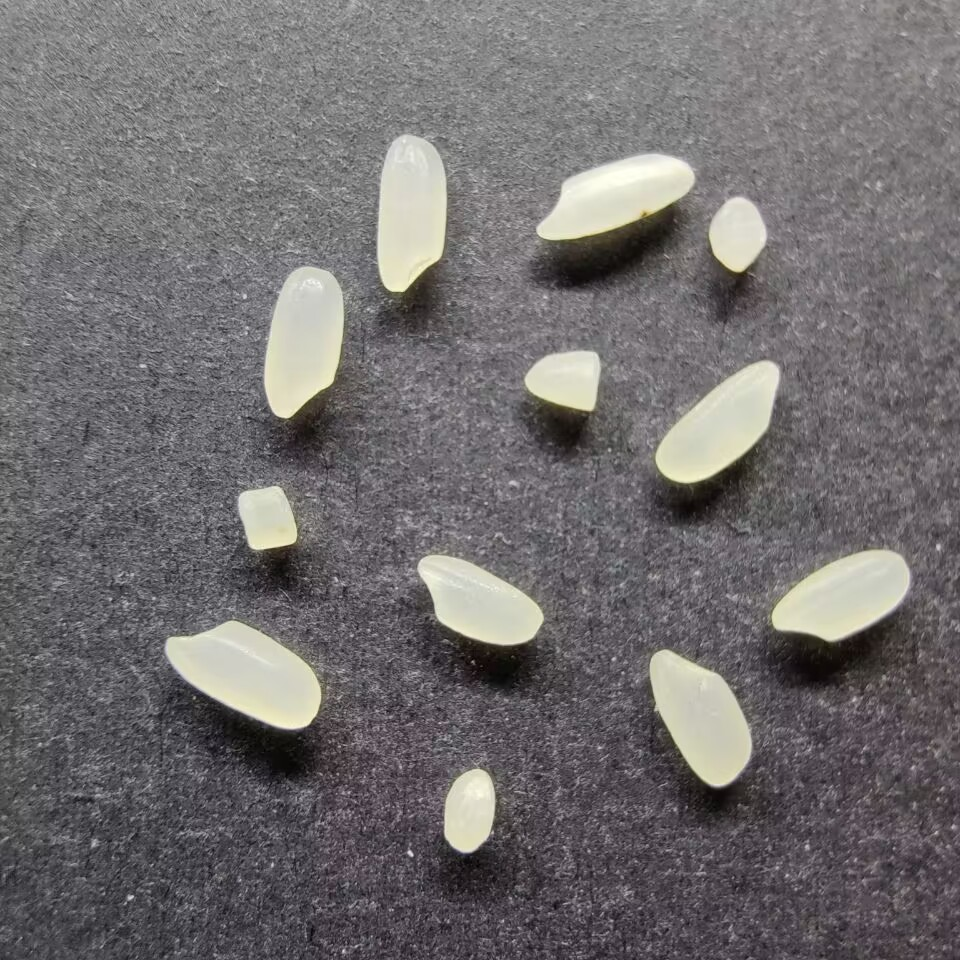broken: (523, 346, 601, 416), (706, 192, 768, 275), (443, 766, 500, 853), (233, 485, 299, 555)
rice: (162, 619, 323, 732), (653, 358, 782, 484), (647, 648, 755, 790), (533, 151, 697, 242), (769, 547, 912, 643), (263, 264, 343, 418), (374, 133, 449, 294), (415, 553, 543, 647)
